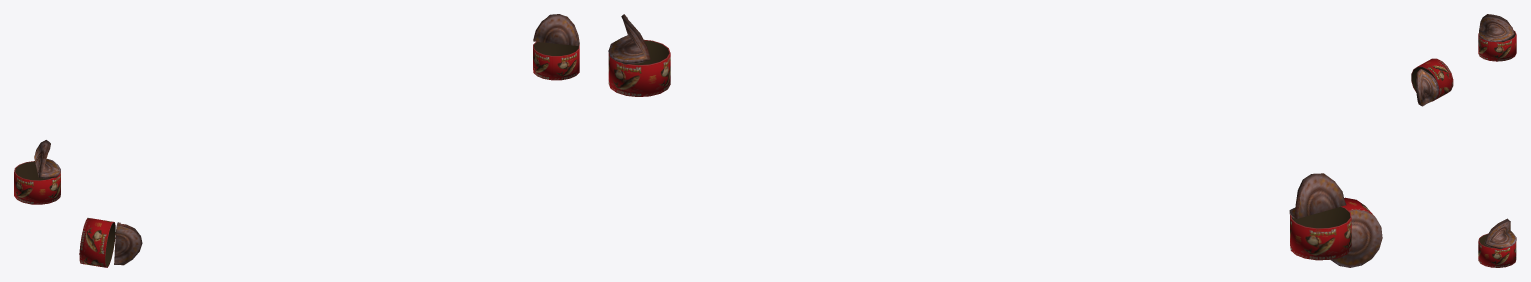
File: cansOutside.fbx
The picture shows the model from 3 angles, left to right: view 1: azimuth 30°, elevation 25°; view 2: azimuth 150°, elevation 25°; view 3: azimuth 270°, elevation 25°; orthographic projection. The views are drawn at different scales.
Parts seen in each view (by area): view 1: cansOutside; view 2: cansOutside; view 3: cansOutside.
Boxes of the visible parts, left/top/right/bottom form: cansOutside: left=14, top=14, right=579, bottom=267; cansOutside: left=608, top=14, right=1382, bottom=267; cansOutside: left=1411, top=14, right=1516, bottom=267.
Size of the model in its own units: 223 by 37.44 by 45.05.
